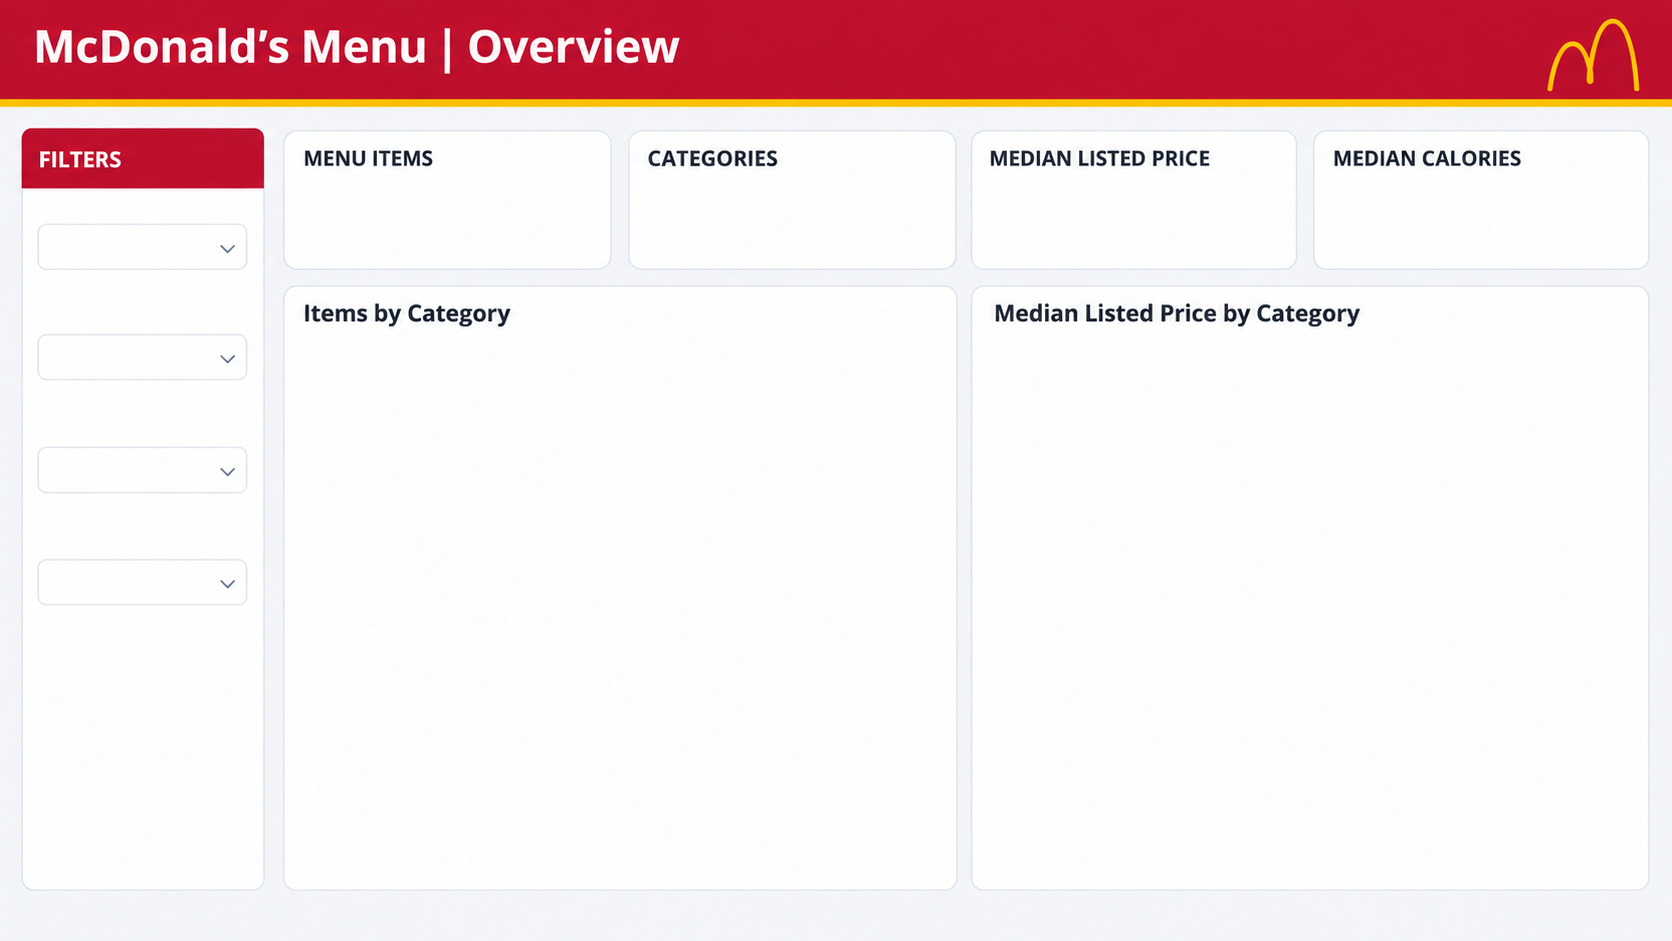

Layout of this report page (visuals, bound fields, positions):
{"tool":"powerbi","page":{"name":"Overview","canvas":[1920,1080],"ordinal":0},"visuals":[{"type":"cardVisual","fields":{"Data":["final_mcdonalds_menu.items"]},"box":[332.8,152.6,242.7,175.2],"z":0},{"type":"cardVisual","fields":{"Data":["final_mcdonalds_menu.Categories"]},"box":[735.6,152.6,242.7,175.2],"z":1000},{"type":"cardVisual","fields":{"Data":["final_mcdonalds_menu.Median_Listed_Price"]},"box":[1123.5,152.6,242.7,175.2],"z":2000},{"type":"cardVisual","fields":{"Data":["final_mcdonalds_menu.Median Calories"]},"box":[1518.8,152.6,242.7,175.2],"z":3000},{"type":"clusteredBarChart","fields":{"Category":["final_mcdonalds_menu.category"],"Y":["CountNonNull(final_mcdonalds_menu.category)"]},"box":[332.8,355.3,745.7,668.1],"z":4000},{"type":"clusteredBarChart","fields":{"Y":["Median(final_mcdonalds_menu.price_usd)"],"Category":["final_mcdonalds_menu.category"]},"box":[1123.5,395.3,740.6,593],"z":5000},{"type":"slicer","fields":{"Values":["final_mcdonalds_menu.category"]},"box":[41.8,242.4,237.1,52.9],"z":6000},{"type":"slicer","fields":{"Values":["final_mcdonalds_menu.is_vegetarian"]},"box":[42.5,368.3,236.2,61.3],"z":6001},{"type":"slicer","fields":{"Values":["final_mcdonalds_menu.is_limited_time"]},"box":[42.9,497.9,236.2,61.3],"z":6002},{"type":"slicer","fields":{"Values":["final_mcdonalds_menu.is_nationwide"]},"box":[42.1,626.4,236.4,61.4],"z":6003}]}

Visuals, with their boxes in screenshot pixels (x1, y1, x2, y2), scaled from the page's 1920x1080 canvas onto the 1672x941 screenshot:
cardVisual - final_mcdonalds_menu.items: [left=290, top=133, right=501, bottom=286]
cardVisual - final_mcdonalds_menu.Categories: [left=641, top=133, right=852, bottom=286]
cardVisual - final_mcdonalds_menu.Median_Listed_Price: [left=978, top=133, right=1190, bottom=286]
cardVisual - final_mcdonalds_menu.Median Calories: [left=1323, top=133, right=1534, bottom=286]
clusteredBarChart - final_mcdonalds_menu.category x CountNonNull(final_mcdonalds_menu.category): [left=290, top=310, right=939, bottom=892]
clusteredBarChart - Median(final_mcdonalds_menu.price_usd) x final_mcdonalds_menu.category: [left=978, top=344, right=1623, bottom=861]
slicer - final_mcdonalds_menu.category: [left=36, top=211, right=243, bottom=257]
slicer - final_mcdonalds_menu.is_vegetarian: [left=37, top=321, right=243, bottom=374]
slicer - final_mcdonalds_menu.is_limited_time: [left=37, top=434, right=243, bottom=487]
slicer - final_mcdonalds_menu.is_nationwide: [left=37, top=546, right=243, bottom=599]
